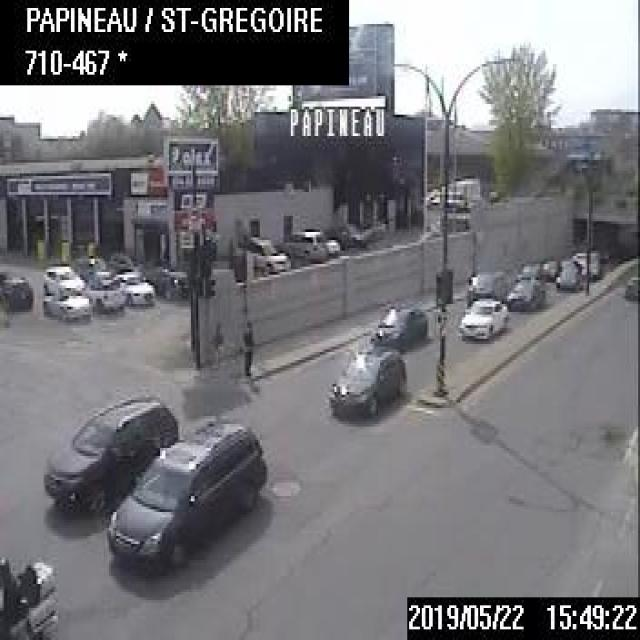pedestrian: (240, 315, 255, 376)
vehicle: (103, 419, 267, 572), (40, 394, 181, 520), (326, 340, 409, 419), (0, 550, 58, 638), (367, 297, 429, 352), (240, 231, 290, 278), (38, 282, 92, 325), (458, 294, 509, 339), (80, 267, 124, 313), (279, 223, 327, 265), (435, 172, 482, 212), (112, 268, 156, 308), (464, 267, 510, 305), (0, 265, 31, 316), (504, 274, 545, 312), (39, 260, 85, 293), (147, 262, 187, 298), (553, 259, 585, 293), (572, 248, 599, 280), (515, 260, 542, 280), (538, 256, 559, 280), (622, 269, 638, 299)
